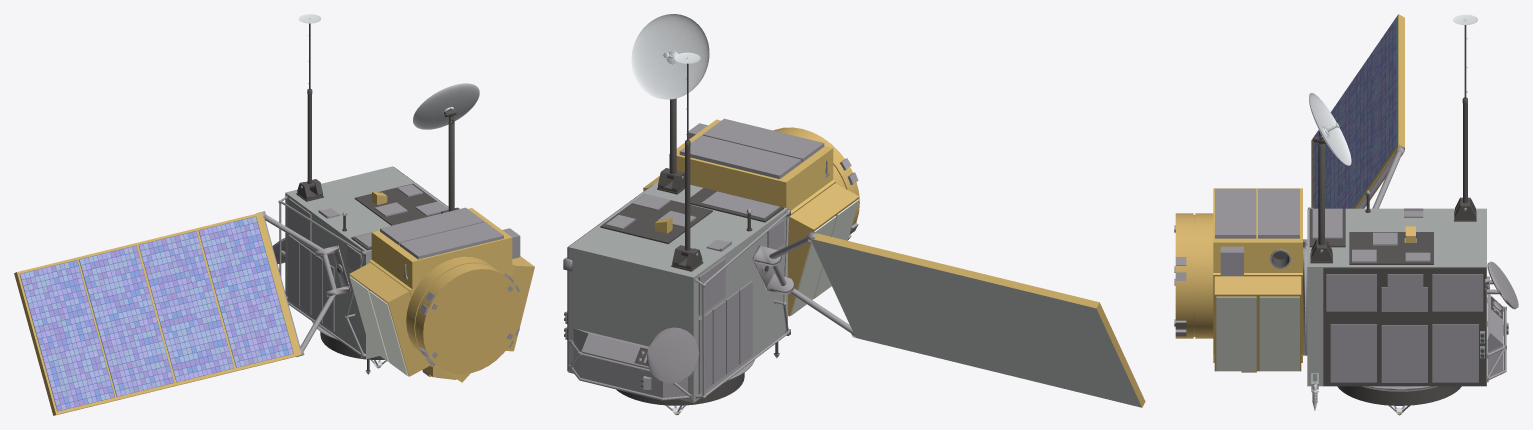
Rendered from topex-poseidon.glb.
3 views of the same model, side by side, from view 1: azimuth 30°, elevation 25°; view 2: azimuth 150°, elevation 25°; view 3: azimuth 270°, elevation 25° (orthographic). The views are drawn at different scales.
Parts seen in each view (by area): view 1: Topex-Posidon-composite; view 2: Topex-Posidon-composite; view 3: Topex-Posidon-composite.
Boxes of the visible parts, bbox=[...] form: Topex-Posidon-composite: bbox=[14, 14, 534, 415]; Topex-Posidon-composite: bbox=[563, 14, 1145, 415]; Topex-Posidon-composite: bbox=[1174, 14, 1518, 415].
Bounding box in the file's own units: 373 × 277 × 230.
Materials: 4 (4 with a texture image).
